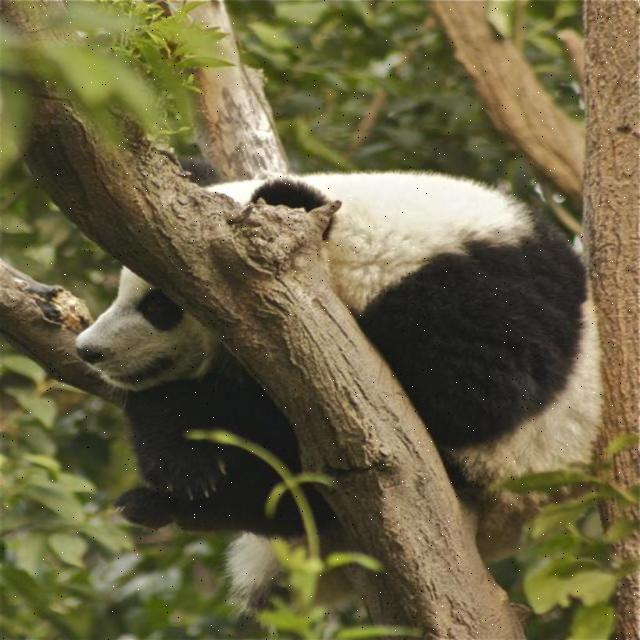panda: (62, 169, 604, 639)
